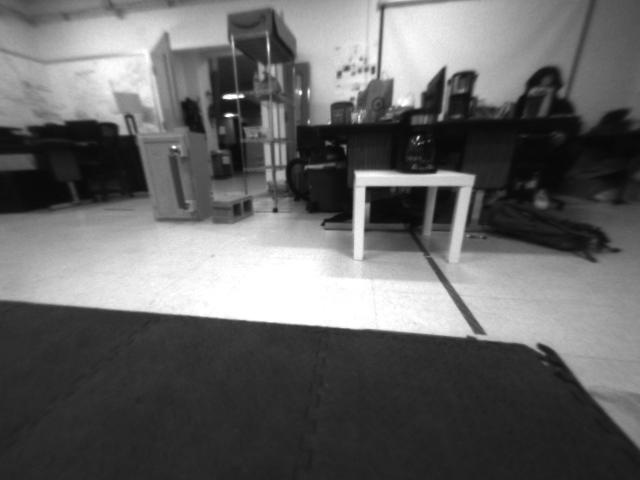coffee_pot: (391, 107, 446, 174)
